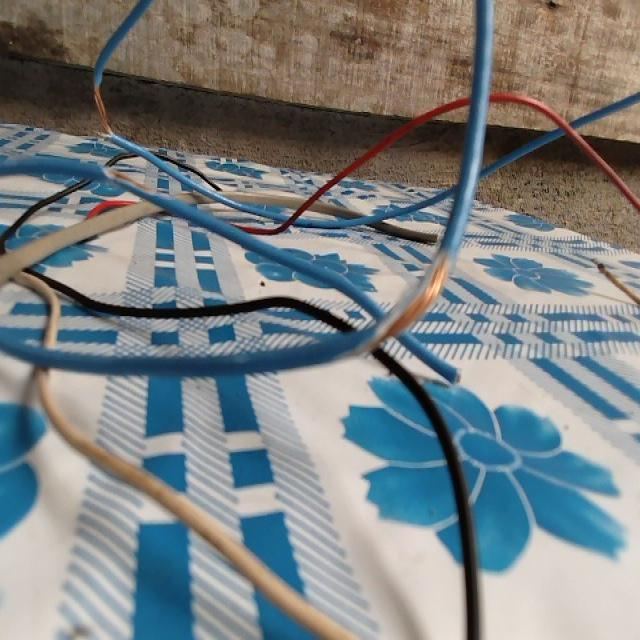-: (348, 242, 462, 366), (90, 76, 115, 144), (587, 248, 605, 273)
